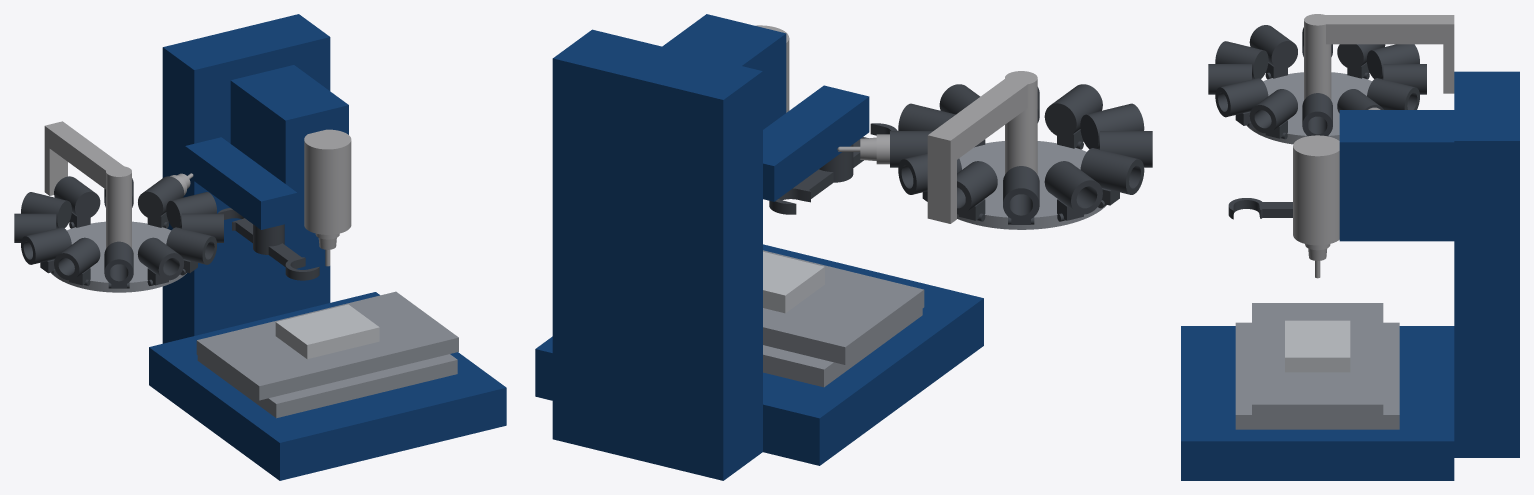
The model's file is test_atc.glb.
The picture shows the model from 3 angles, left to right: view 1: azimuth 30°, elevation 25°; view 2: azimuth 150°, elevation 25°; view 3: azimuth 270°, elevation 25°; orthographic projection. The views are drawn at different scales.
Visible parts, largest first — view 1: Part 2, Part 1, Part 4, Part 6, Part 9, Part 10, Part 7, Part 3, Part 5, Part 12, Part 11, Part 20 (+10 smaller); view 2: Part 2, Part 1, Part 4, Part 10, Part 9, Part 6, Part 12, Part 5, Part 3, Part 18, Part 19, Part 11 (+10 smaller); view 3: Part 1, Part 2, Part 6, Part 4, Part 10, Part 3, Part 7, Part 5, Part 12, Part 24, Part 23, Part 20 (+10 smaller).
Part boxes in pixels (box(x1,y1,x2,y2)): Part 2: box(162, 14, 330, 343); Part 1: box(149, 292, 506, 480); Part 4: box(196, 291, 458, 400); Part 6: box(230, 65, 348, 212); Part 9: box(185, 137, 297, 229); Part 10: box(44, 121, 131, 248); Part 7: box(304, 129, 351, 234); Part 3: box(197, 354, 457, 418); Part 5: box(275, 304, 379, 359); Part 12: box(51, 221, 186, 292); Part 11: box(218, 208, 319, 280); Part 20: box(54, 237, 100, 286); Part 2: box(552, 29, 762, 480); Part 1: box(535, 244, 983, 465); Part 4: box(763, 250, 924, 364); Part 10: box(927, 71, 1037, 223); Part 9: box(763, 85, 869, 201); Part 6: box(662, 14, 786, 129); Part 12: box(957, 141, 1106, 229); Part 5: box(763, 251, 824, 313); Part 3: box(763, 309, 922, 387); Part 18: box(1044, 161, 1102, 221); Part 19: box(1080, 148, 1144, 208); Part 11: box(769, 123, 897, 214); Part 1: box(1181, 326, 1454, 480); Part 2: box(1454, 71, 1519, 457); Part 6: box(1339, 110, 1454, 241); Part 4: box(1252, 303, 1383, 419); Part 10: box(1304, 14, 1454, 99); Part 3: box(1235, 322, 1399, 429); Part 7: box(1293, 135, 1339, 245); Part 5: box(1285, 320, 1350, 372); Part 12: box(1246, 72, 1371, 144); Part 24: box(1249, 89, 1297, 139); Part 23: box(1215, 78, 1268, 128); Part 20: box(1249, 25, 1297, 79).
Bounding box in the file's own units: 0.91 × 0.64 × 0.62.
